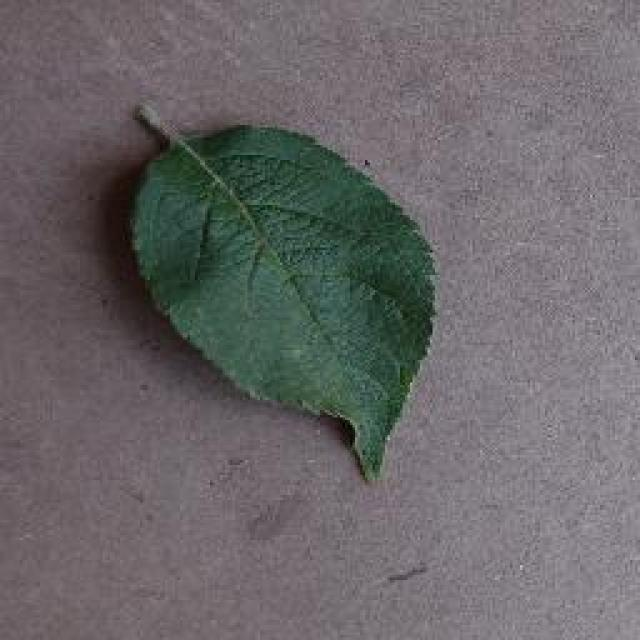apple healthy: (122, 98, 440, 482)
